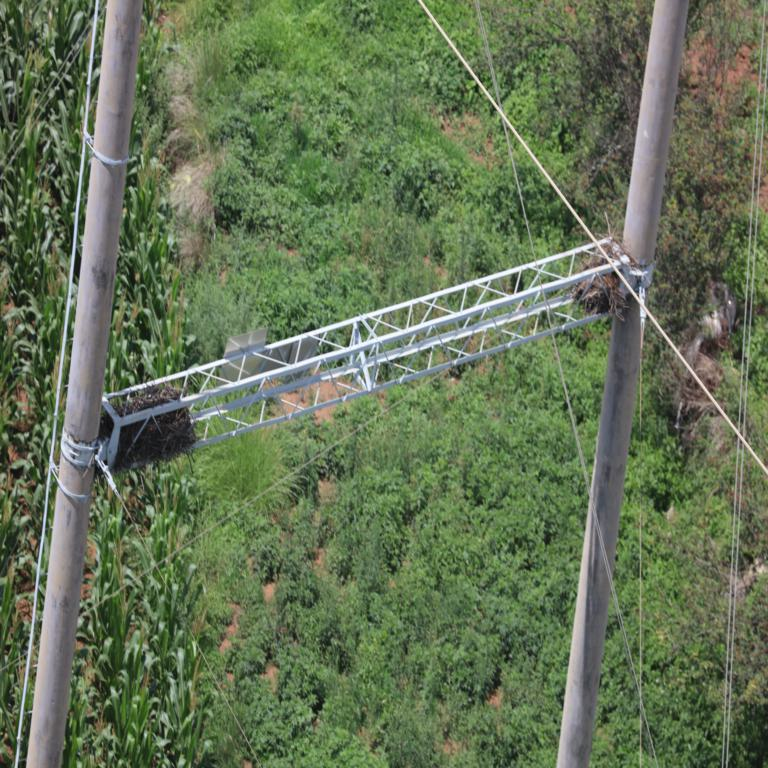nest: (100, 387, 201, 462), (569, 249, 633, 321)
